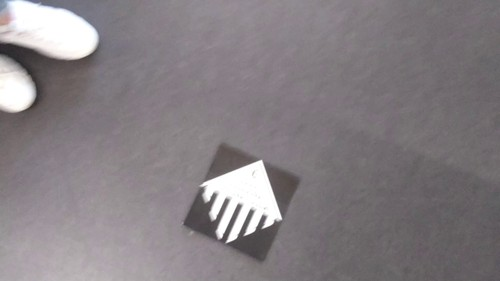misgoods: (197, 158, 286, 246)
